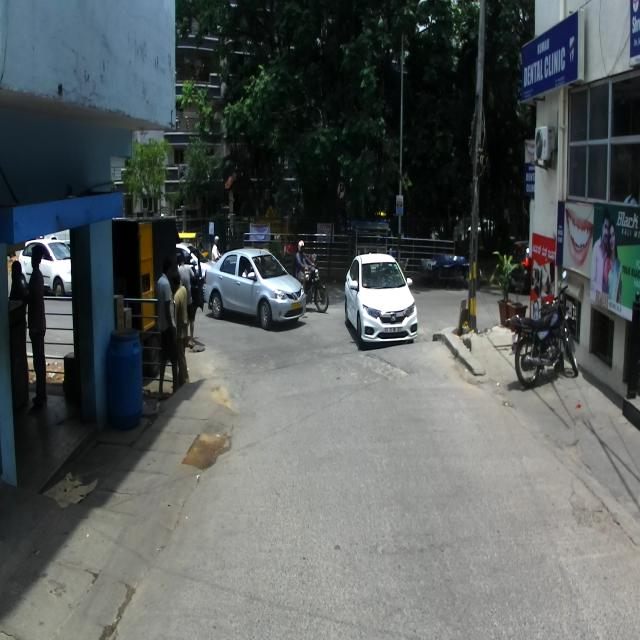car ahead at: (207, 244, 304, 342), (346, 246, 420, 340)
dustbin ahead at: (106, 322, 148, 434)
electric pole ahead at: (466, 0, 490, 348)
motorcycle ahead at: (512, 282, 578, 392)
person ahead at: (148, 253, 184, 399)
